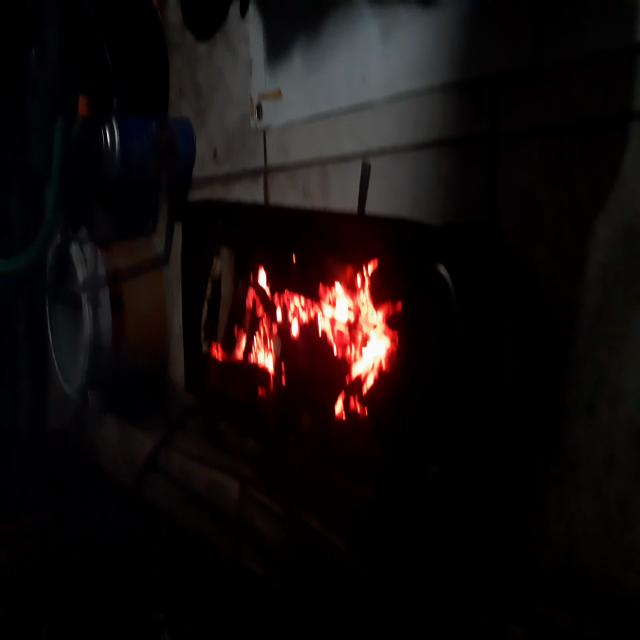Fire: (219, 240, 401, 430)
